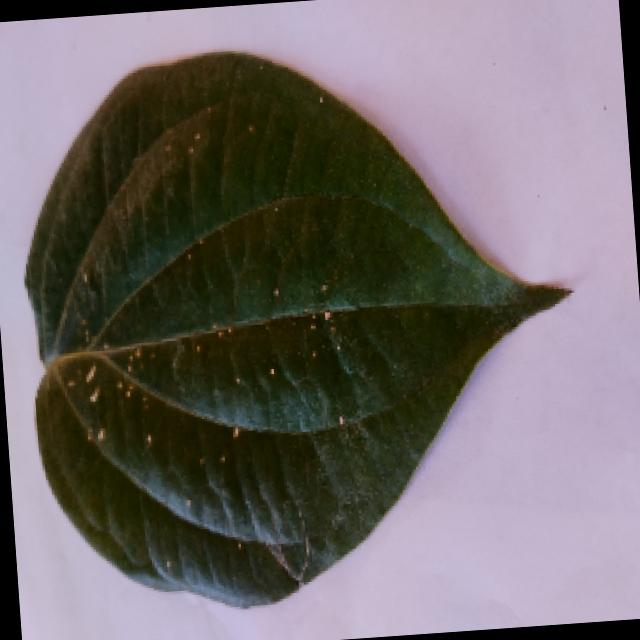pollu-disease: (4, 28, 586, 615)
